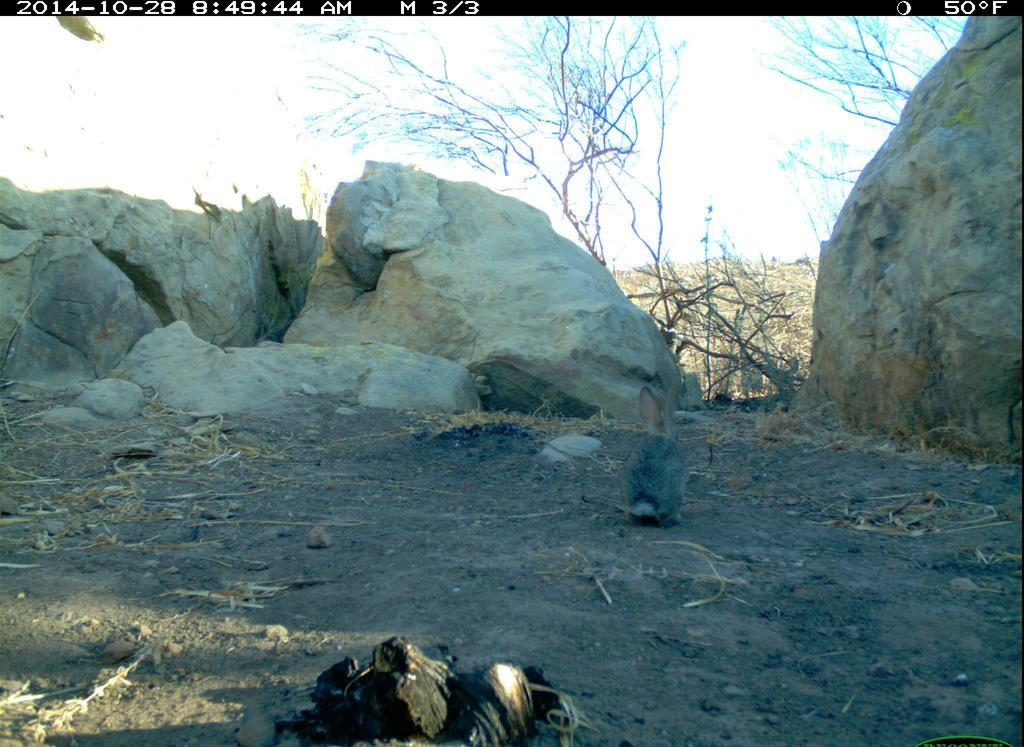rabbit: (613, 375, 696, 542)
